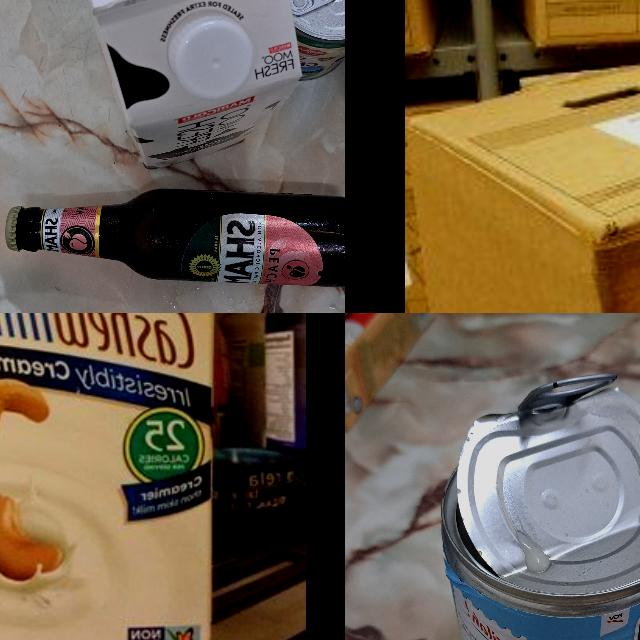aba de lata: (516, 373, 618, 417), (291, 0, 342, 21)
caixinha: (0, 313, 215, 640), (79, 0, 301, 167), (345, 313, 433, 435)
garrafa de vidro: (3, 183, 345, 286)
lata: (441, 387, 640, 640), (270, 0, 345, 73)
papelão: (405, 53, 640, 313), (504, 0, 640, 51), (406, 0, 445, 60)
tampa plástica: (167, 10, 251, 101)
